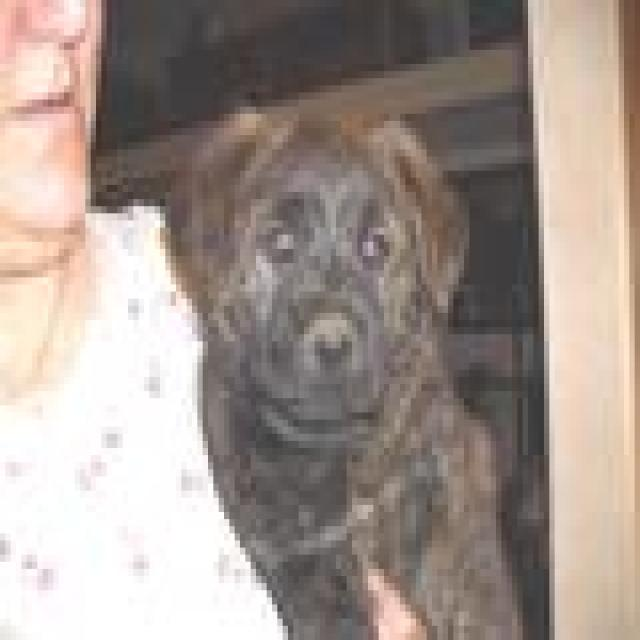Dogs: (155, 99, 528, 633)
